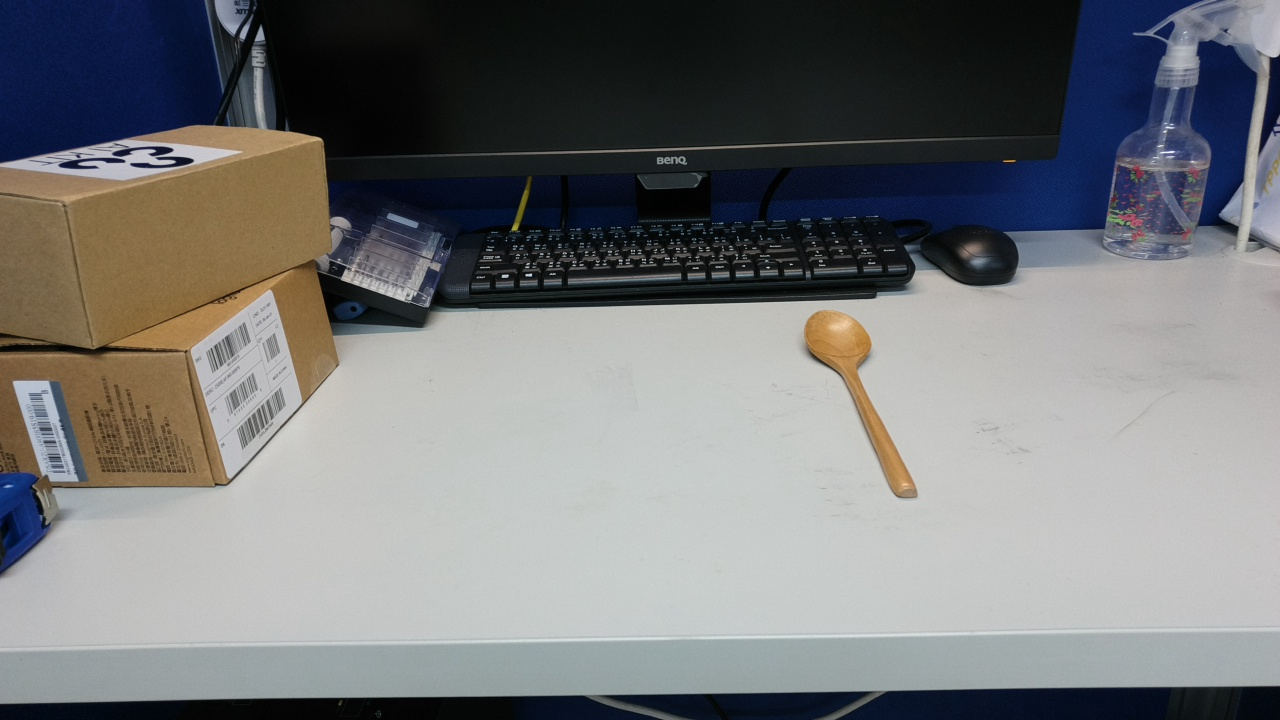circle: (726, 486, 960, 700)
